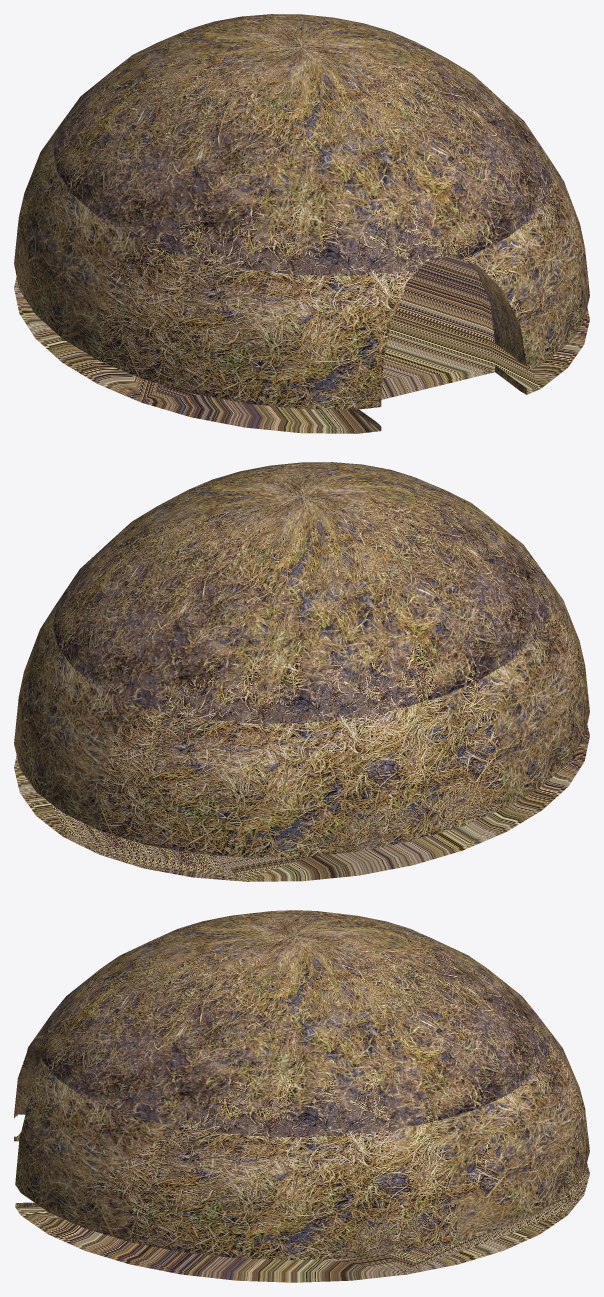
The model's file is madriguera_partida.fbx.
3 renders of one model, top to bottom at view 1: azimuth 30°, elevation 25°; view 2: azimuth 150°, elevation 25°; view 3: azimuth 270°, elevation 25°, orthographic. The views are drawn at different scales.
Parts seen in each view (by area): view 1: Object, Sphere001; view 2: Object, Sphere001; view 3: Object, Sphere001.
Boxes of the visible parts, x1,y1,x2,y2 form: Object: (14, 14, 589, 409); Sphere001: (14, 255, 589, 433); Object: (14, 462, 589, 857); Sphere001: (14, 725, 589, 881); Object: (14, 910, 589, 1260); Sphere001: (14, 1132, 589, 1282).
Bounding box in the file's own units: 84.3 × 43.07 × 94.18.
1 material, 1 textured.
